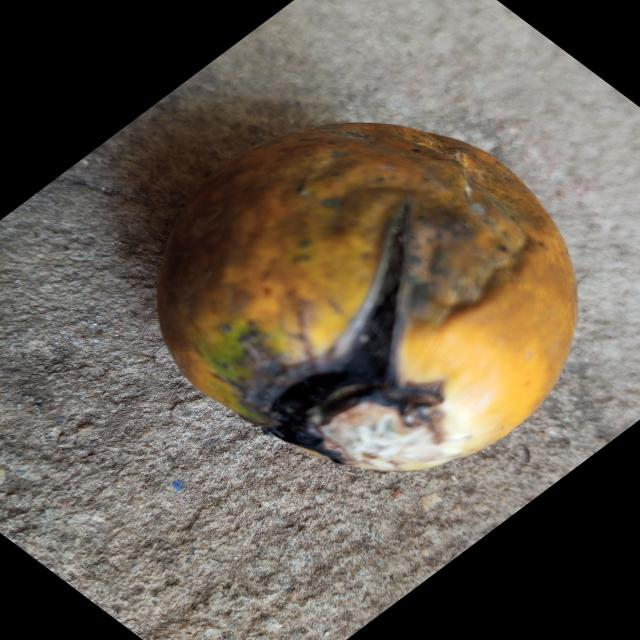damaged: (157, 124, 577, 472)
